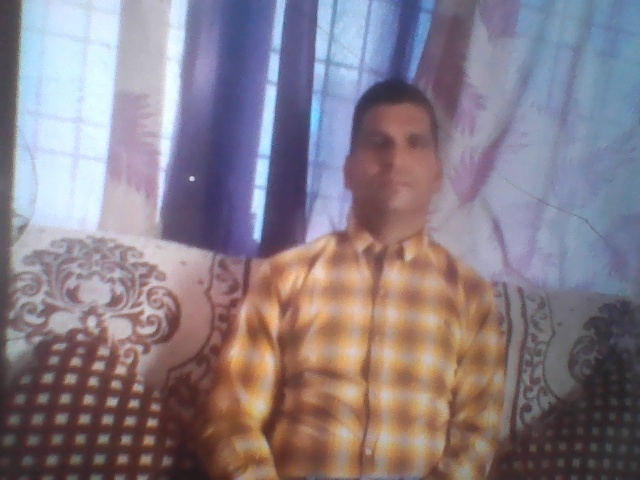fake: (335, 58, 458, 233)
